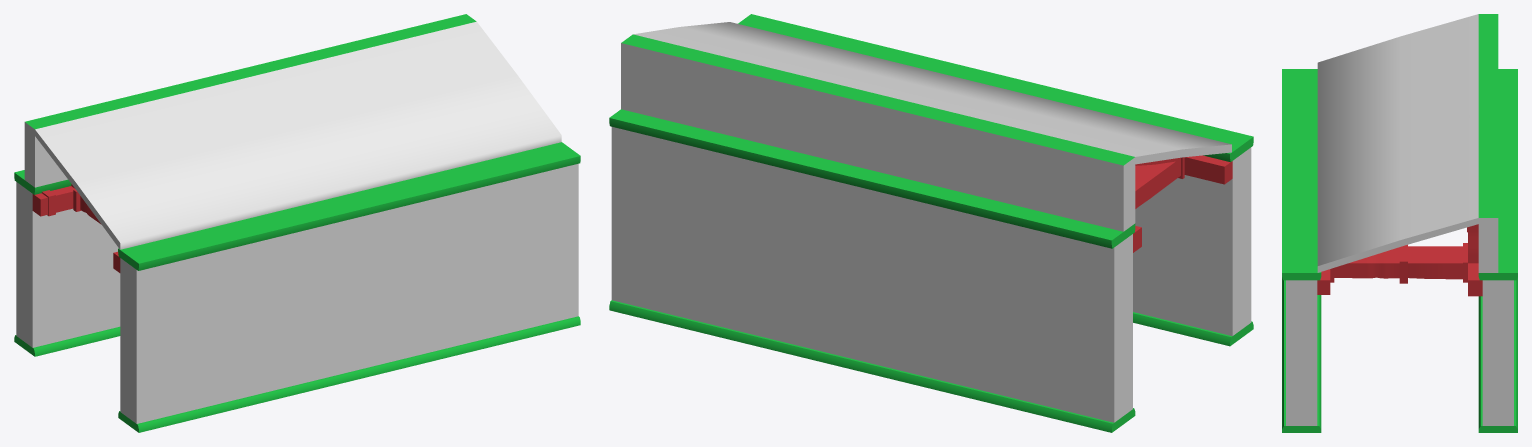
The model's file is Basic Hallway 07_NF.fbx.
3 renders of one model, left to right at view 1: azimuth 30°, elevation 25°; view 2: azimuth 150°, elevation 25°; view 3: azimuth 270°, elevation 25°, orthographic. The views are drawn at different scales.
Parts seen in each view (by area): view 1: Plane_001_001; view 2: Plane_001_001; view 3: Plane_001_001.
Part boxes in pixels (x1,y1,x2,y2): Plane_001_001: (14,14,580,432); Plane_001_001: (609,14,1253,432); Plane_001_001: (1282,14,1517,432).
Size of the model in its own units: 1258 by 619 by 615.
